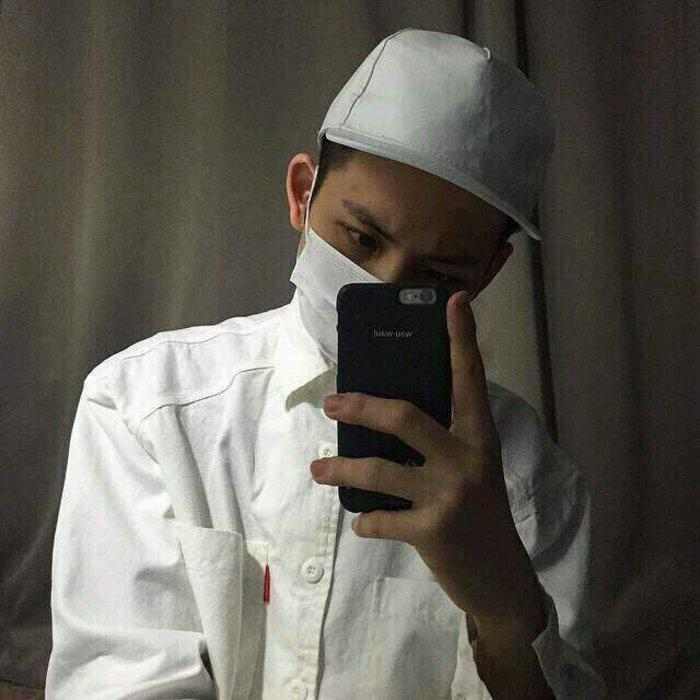OK: (299, 186, 484, 371)
